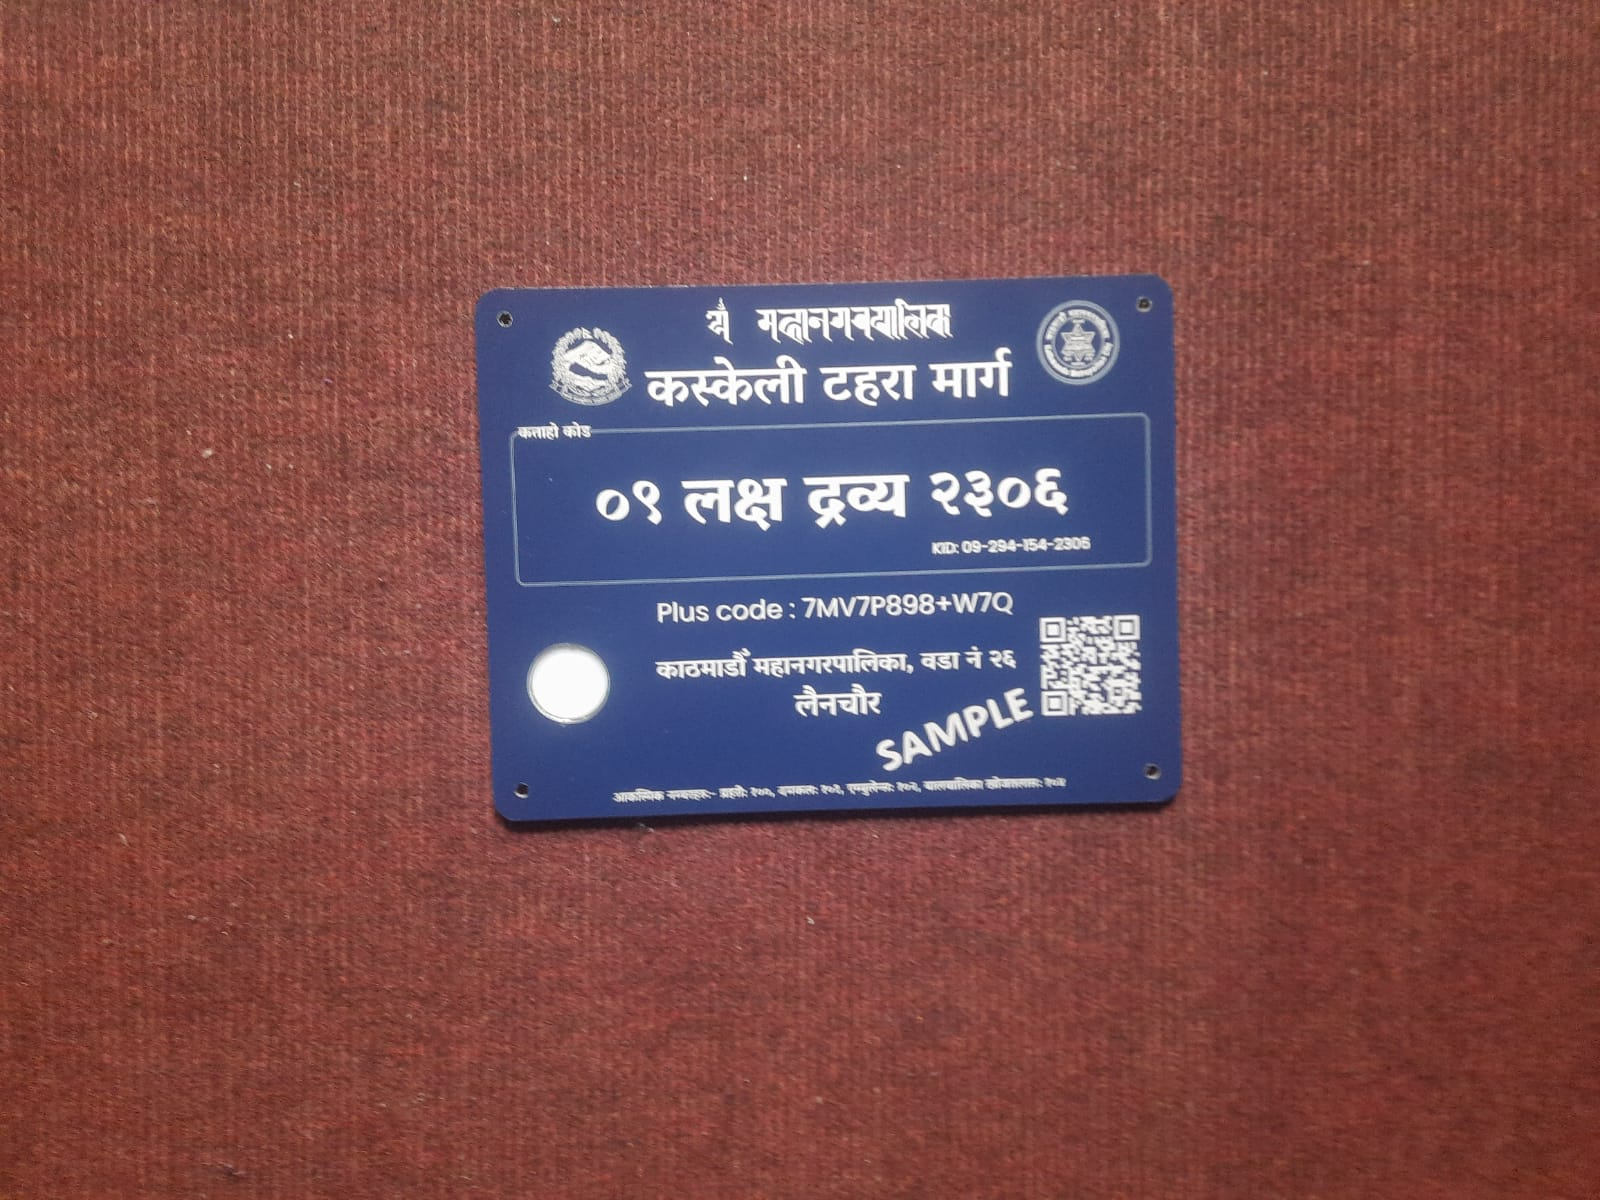Plate: (473, 273, 1190, 832)
